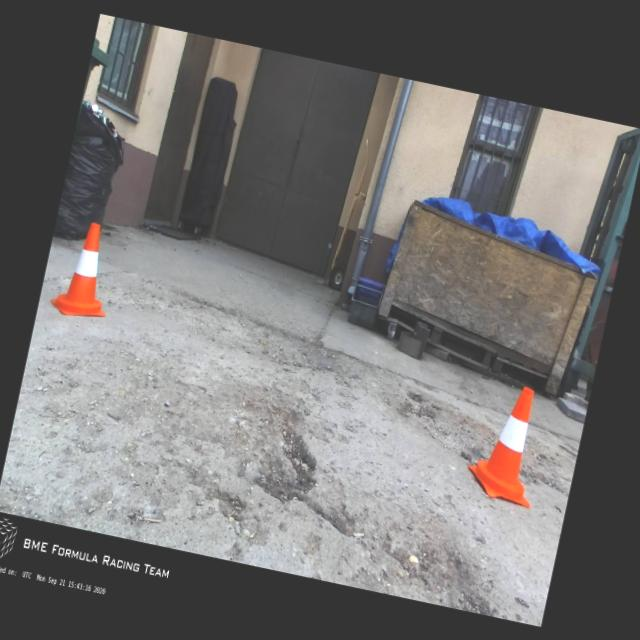orange_cone: (462, 378, 554, 510), (47, 216, 123, 324)
